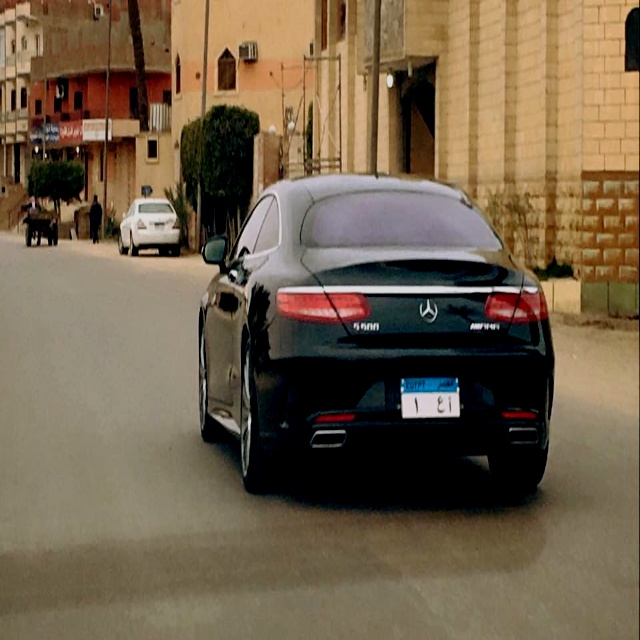License Plate: (399, 374, 461, 421)
